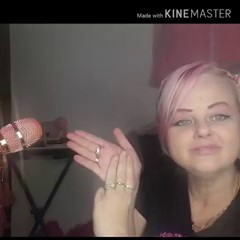M: (65, 124, 149, 237)
